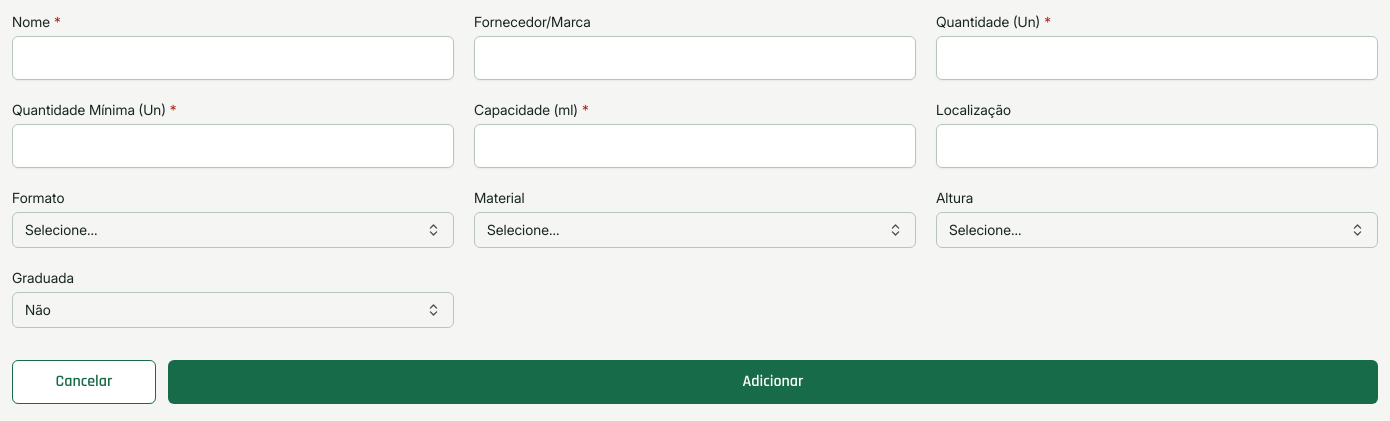
Test: FormVidrarias: experiência de erros › caracteriza criação bem-sucedida e mantém o reset existente
Type "Béquer de vidro" into the field labelled "Nome*". click: x=233, y=58
box: [12,36,454,80]
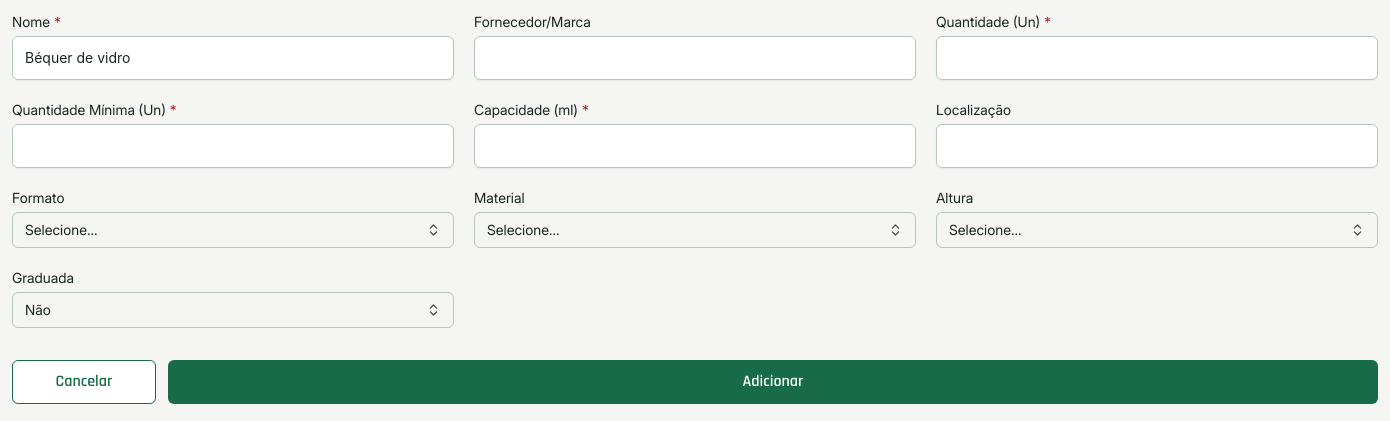
Type "12" into the number field labelled "Quantidade (Un)*". click: x=1157, y=58
box: [936,36,1378,80]
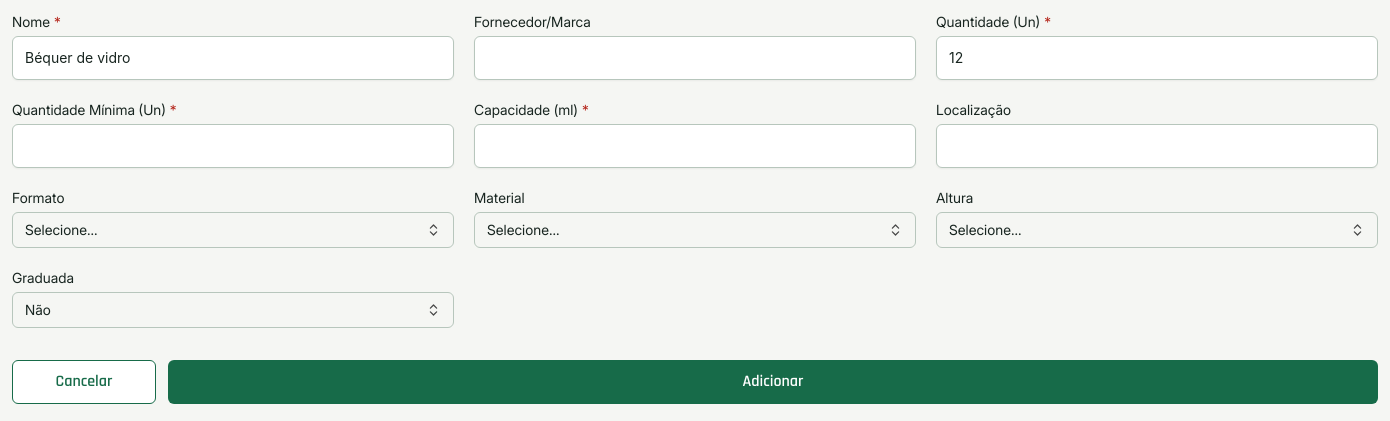
Type "2" into the number field labelled "Quantidade Mínima (Un)*". click: x=233, y=146
box: [12,124,454,168]
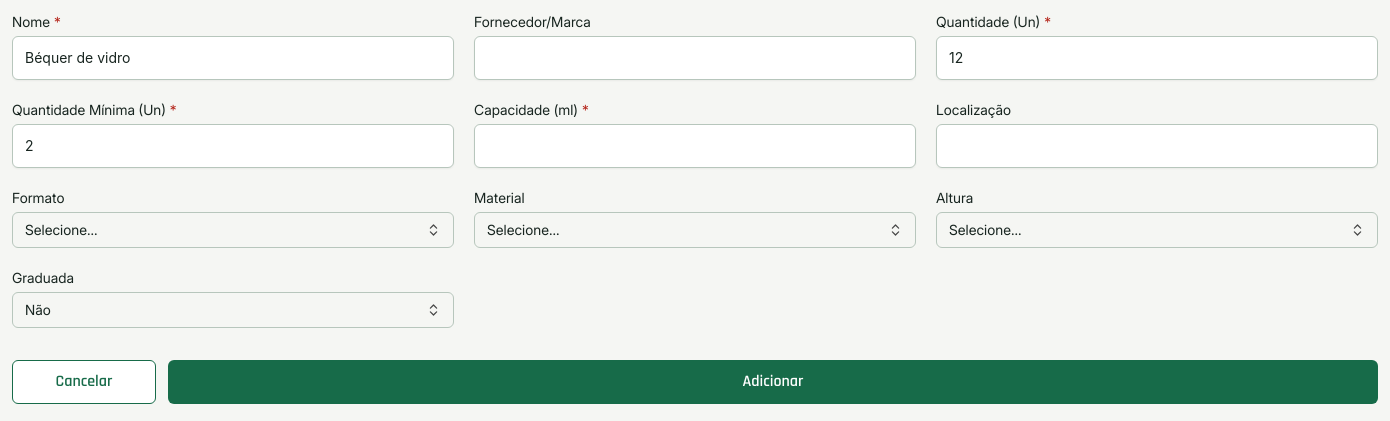
Type "500" into the number field labelled "Capacidade (ml)*". click: x=695, y=146
box: [474,124,916,168]
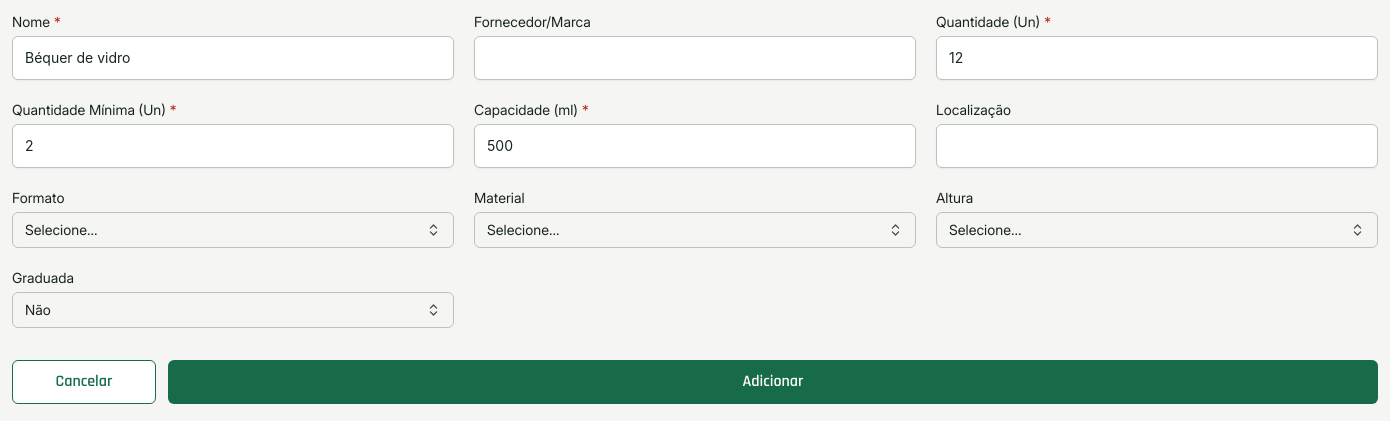
Click the button "Adicionar". click: x=773, y=382
box: [168,360,1378,404]
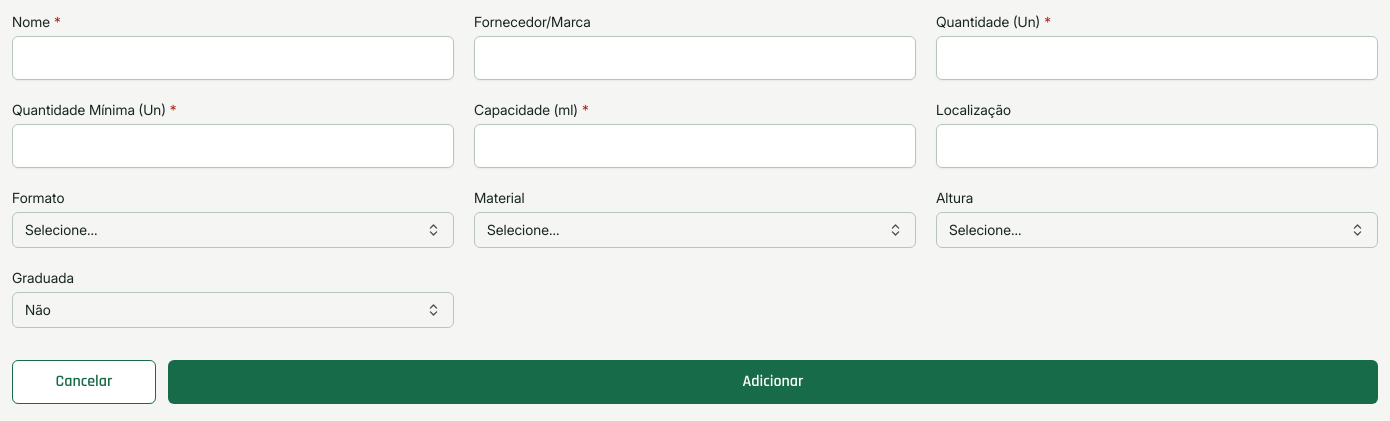
Expected: the field labelled "Nome*" is empty, [12,36,454,80]
Expected: the number field labelled "Quantidade (Un)*" is not empty, [936,36,1378,80]
